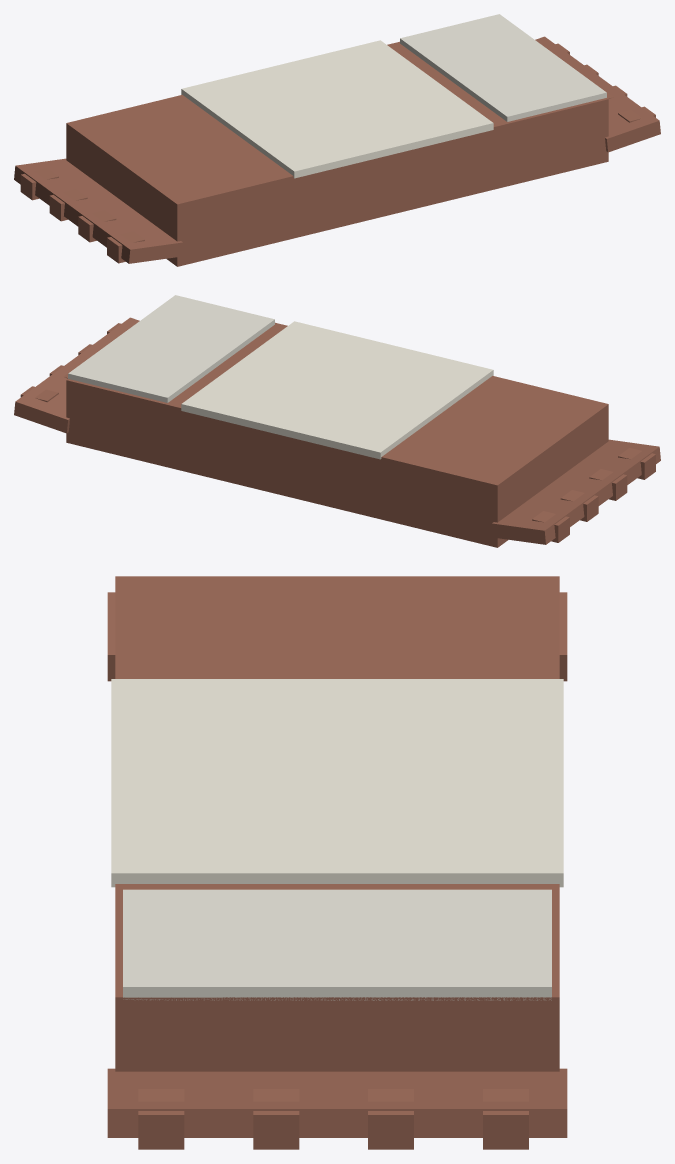
Rendered from food_chocolate.glb.
3 views of the same model, one above another, from view 1: azimuth 30°, elevation 25°; view 2: azimuth 150°, elevation 25°; view 3: azimuth 270°, elevation 25° (orthographic). The views are drawn at different scales.
Visible parts, largest first — view 1: Chocolate; view 2: Chocolate; view 3: Chocolate.
Boxes of the visible parts, x1,y1,x2,y2 form: Chocolate: [14, 14, 660, 266]; Chocolate: [14, 295, 660, 547]; Chocolate: [107, 576, 567, 1149].
Bounding box in the file's own units: 0.162 × 0.0195 × 0.06.
